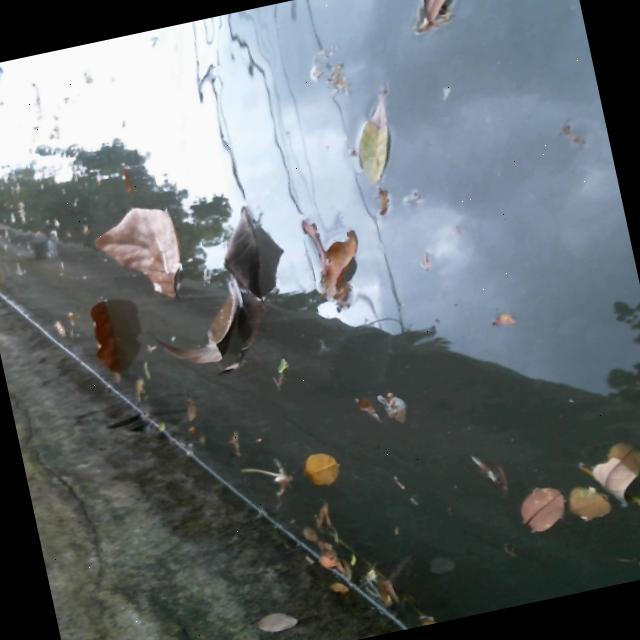Big-leaf: (140, 204, 309, 398), (85, 195, 200, 323), (291, 183, 385, 331), (66, 288, 141, 396)
Small-leaf: (333, 93, 412, 191), (331, 377, 438, 446), (496, 474, 577, 553), (574, 415, 640, 507), (284, 434, 364, 506), (395, 0, 509, 43), (555, 464, 626, 527)
